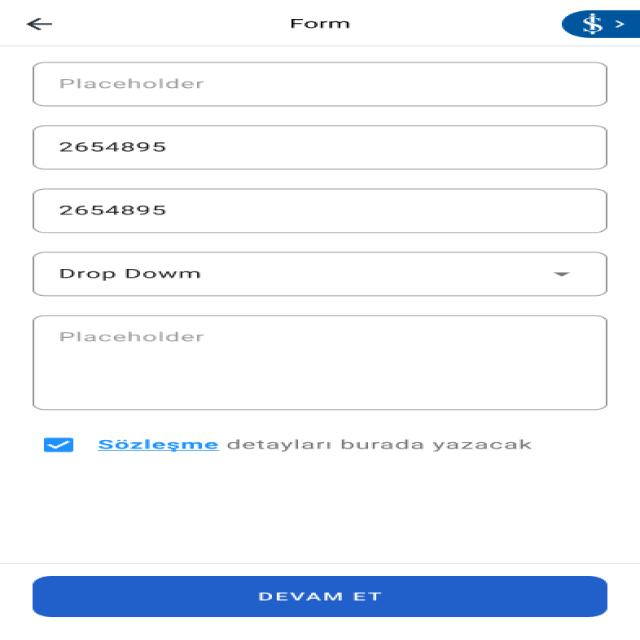QLabel: (223, 438, 540, 454), (94, 438, 220, 454), (255, 590, 390, 602), (286, 18, 354, 30)
VAppBar: (0, 0, 640, 46)
VBtn: (30, 574, 610, 619)
VCheckbox: (40, 436, 77, 455)
VCombobox: (31, 251, 610, 298)
VFooter: (0, 563, 640, 640)
VIcon: (20, 16, 56, 33)
VImg: (560, 10, 638, 39)
VTextField: (33, 61, 612, 108), (32, 188, 610, 234), (33, 124, 610, 170)
VTextarea: (29, 316, 611, 411)
